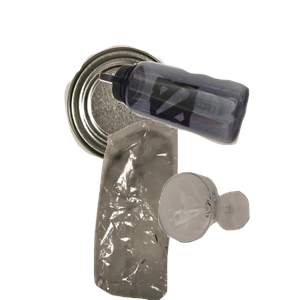glass: (156, 170, 300, 300)
metal: (62, 43, 232, 198)
plastic: (97, 59, 300, 197)
trash: (70, 120, 256, 300)
